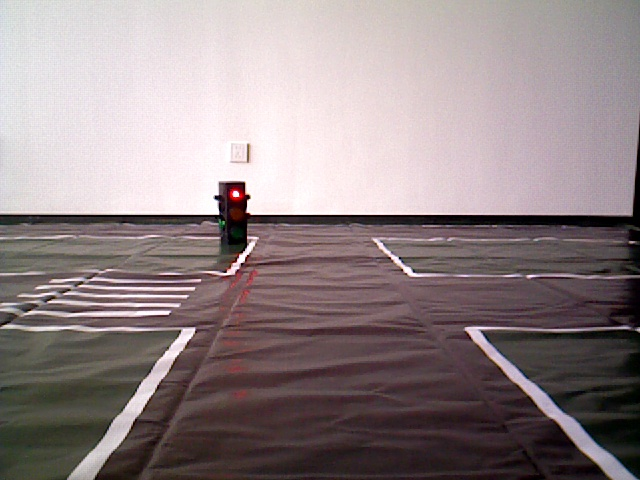red: (217, 181, 244, 243)
